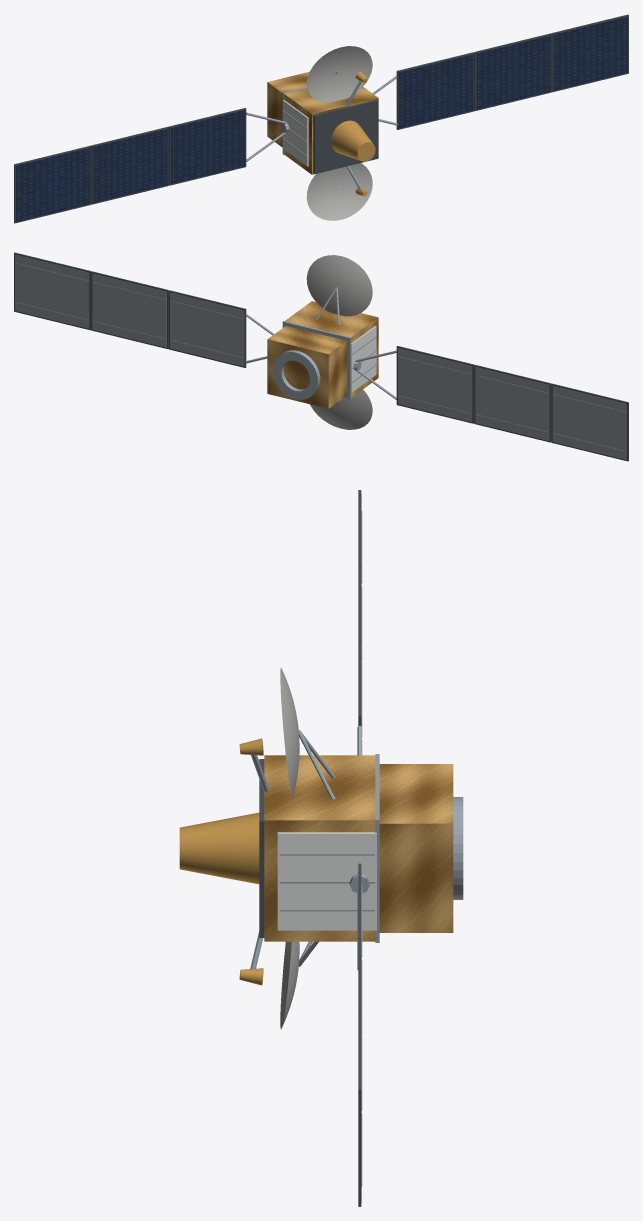
Rendered from ssl-1300-early.glb.
3 renders of one model, top to bottom at view 1: azimuth 30°, elevation 25°; view 2: azimuth 150°, elevation 25°; view 3: azimuth 270°, elevation 25°, orthographic. The views are drawn at different scales.
Visible parts, largest first — view 1: Solar cell panel (×6), Communications reflector (×2), Solar panel frame (×6), Earth-facing deck, Payload module, Service module, Axial antenna horn, Radiator face; view 2: Rear array substrate (×6), Communications reflector (×2), Service module, Solar panel frame (×6), Payload module, Launch adapter ring, Radiator face, Module interface; view 3: Service module, Payload module, Radiator face, Axial antenna horn, Communications reflector (×2), Launch adapter ring, Earth-facing deck.
Boxes of the visible parts, x1=… form: Solar cell panel (×6): x1=16, y1=16, x2=627, y2=221; Communications reflector (×2): x1=306, y1=46, x2=372, y2=220; Solar panel frame (×6): x1=14, y1=14, x2=628, y2=223; Earth-facing deck: x1=313, y1=99, x2=378, y2=174; Payload module: x1=284, y1=87, x2=378, y2=174; Service module: x1=267, y1=72, x2=309, y2=147; Axial antenna horn: x1=331, y1=120, x2=375, y2=161; Radiator face: x1=282, y1=100, x2=308, y2=166; Rear array substrate (×6): x1=15, y1=254, x2=626, y2=459; Communications reflector (×2): x1=306, y1=255, x2=372, y2=429; Service module: x1=267, y1=326, x2=346, y2=408; Solar panel frame (×6): x1=14, y1=252, x2=628, y2=461; Payload module: x1=285, y1=301, x2=378, y2=397; Launch adapter ring: x1=273, y1=350, x2=320, y2=399; Radiator face: x1=351, y1=326, x2=376, y2=392; Module interface: x1=282, y1=321, x2=351, y2=399; Service module: x1=379, y1=764, x2=453, y2=932; Payload module: x1=264, y1=755, x2=375, y2=941; Radiator face: x1=277, y1=832, x2=376, y2=930; Axial antenna horn: x1=179, y1=812, x2=259, y2=884; Communications reflector (×2): x1=280, y1=667, x2=299, y2=1029; Launch adapter ring: x1=453, y1=797, x2=463, y2=899; Earth-facing deck: x1=259, y1=759, x2=264, y2=937.
Size of the model in its own units: 20.27 by 5.45 by 4.05.
8 materials, 2 textured.
